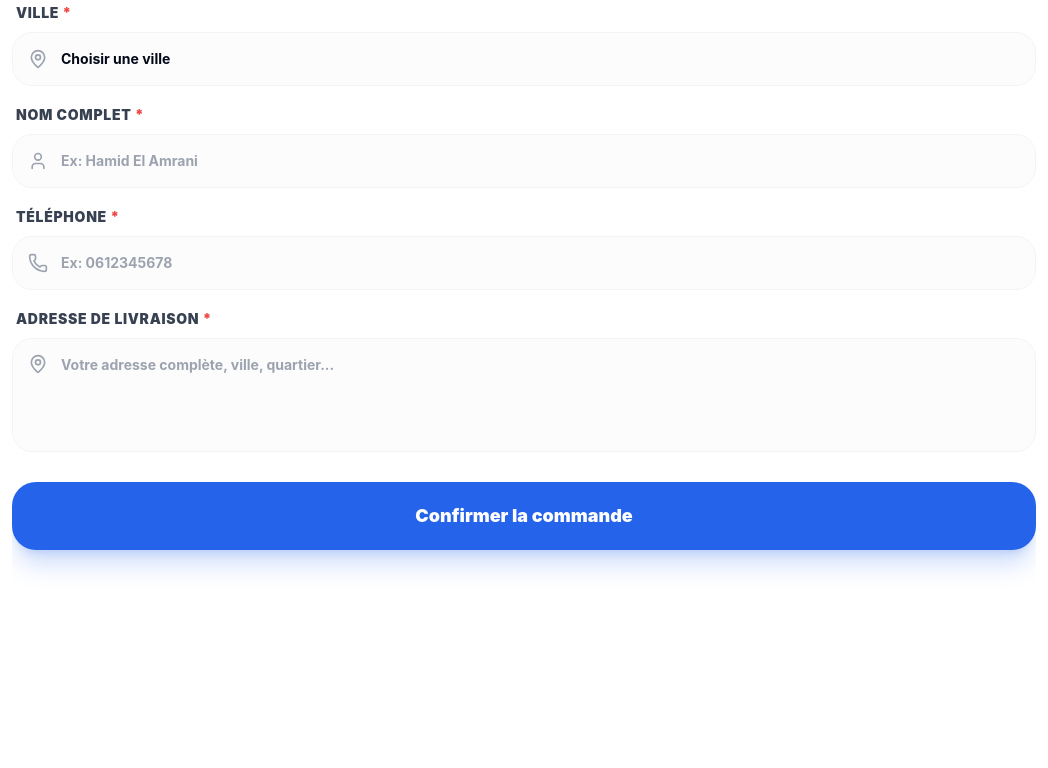
it: CheckoutForm › form validation › should show validation errors for empty required fields
The image size is (1048, 768).
Click the button "Confirmer la commande" at (524, 516), box 12,482 -> 1036,550
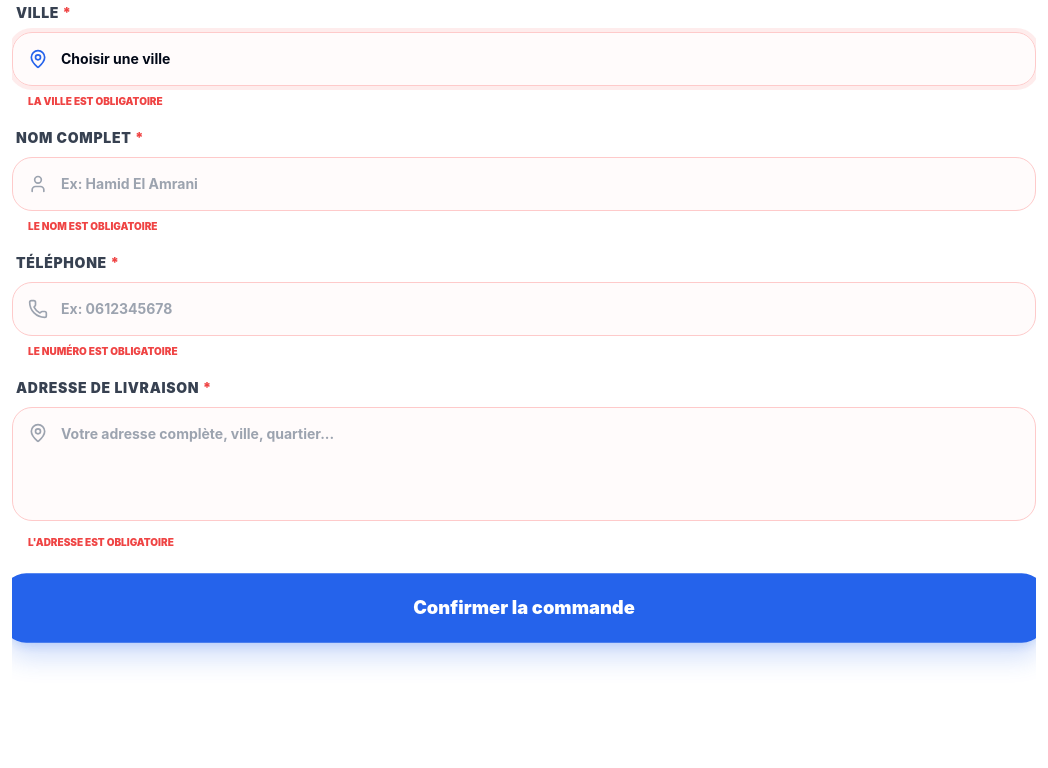
Check: the text "La ville est obligatoire" is shown, box 28,95 -> 163,107
Check: the text "Le nom est obligatoire" is shown, box 28,220 -> 158,232
Check: the text "Le numéro est obligatoire" is shown, box 28,345 -> 178,357
